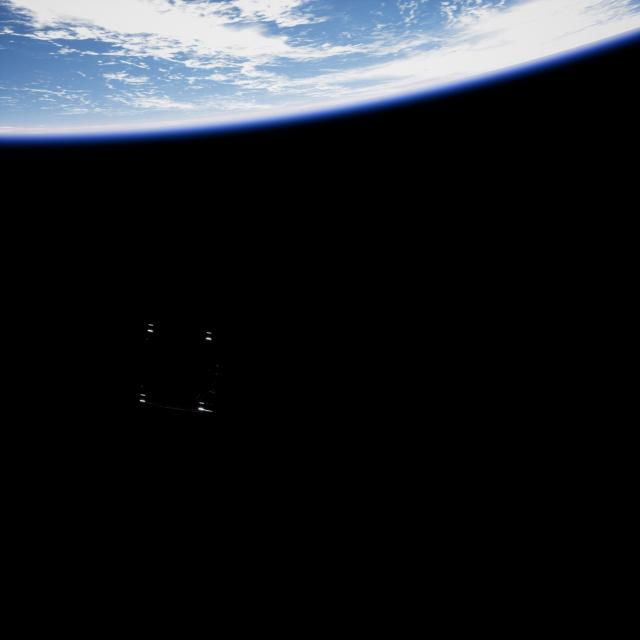medium_debris: (134, 320, 224, 422)
